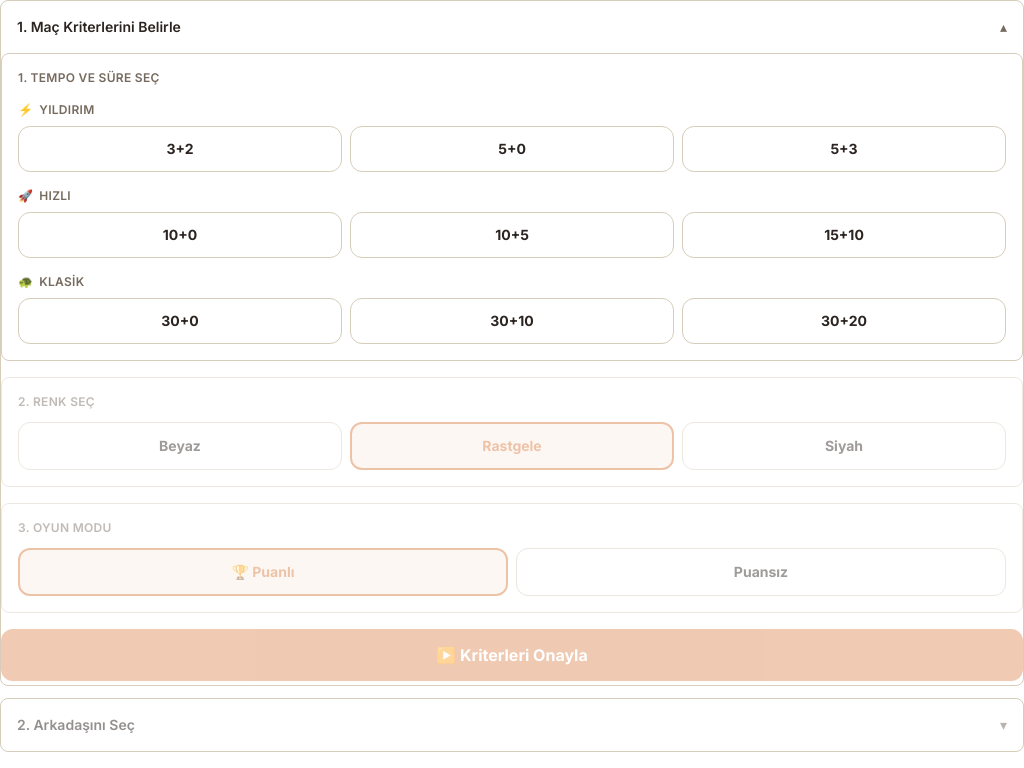
FriendChallenge › aktif isme tıklanıp Teklif Et ile davet gönderilir
The image size is (1024, 768).
What coordinates should you click on to do the following:
click the button "5+0"
I would click on:
 (512, 149)
Its box is [350,126,674,172].
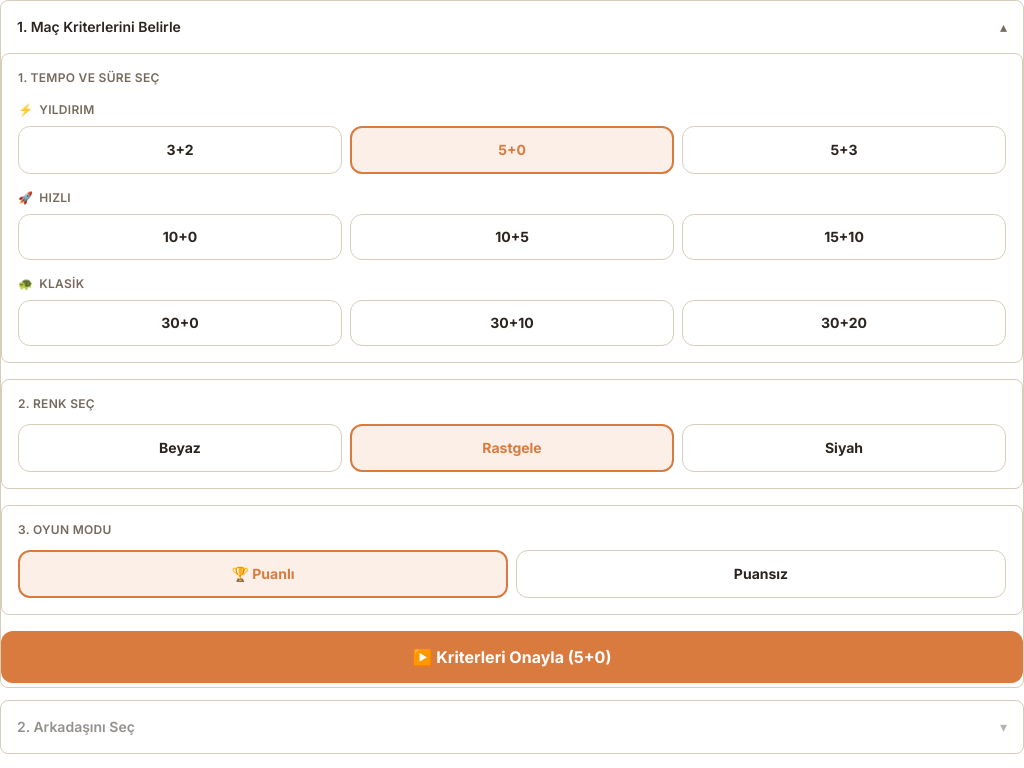
What coordinates should you click on to do the following:
click the button "▶️ Kriterleri Onayla (5+0)"
I would click on:
 (512, 657)
Its box is [1,631,1023,683].
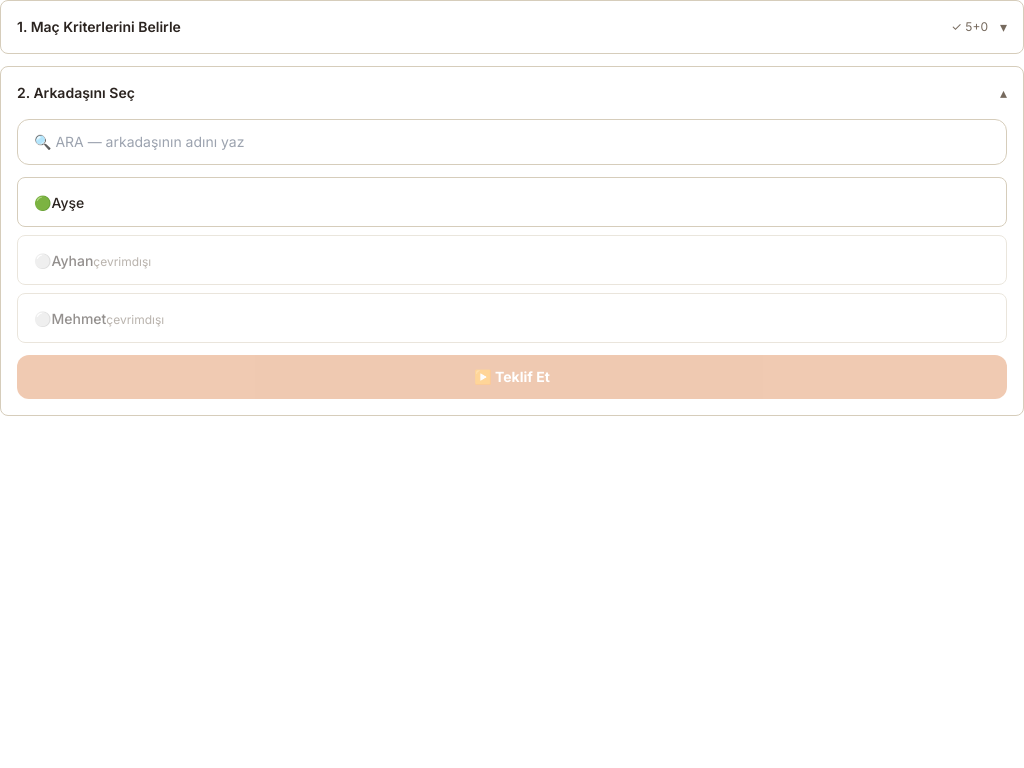
Result: the text "Ayşe" is shown at [52,194,84,211]
What coordinates should you click on to do the following:
click the button named "🟢 Ayşe"
I would click on:
 (68, 202)
Its box is [17,177,1007,227].
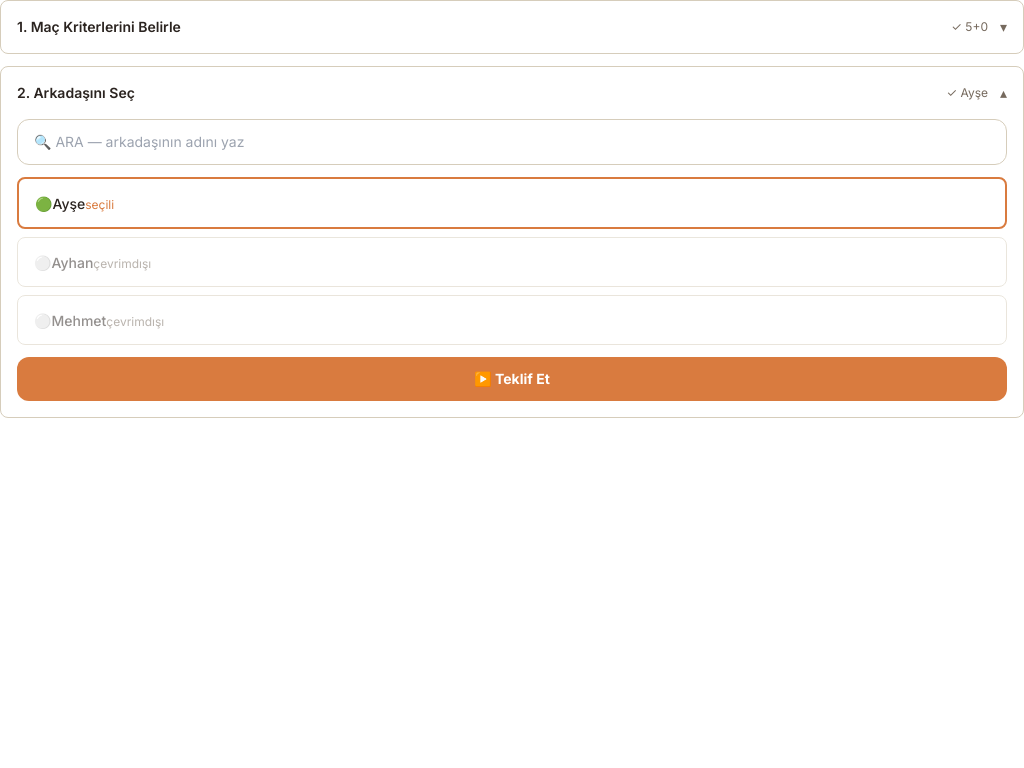
What coordinates should you click on to do the following:
click the button "▶️ Teklif Et"
I would click on:
 (512, 379)
Its box is [17,357,1007,401].
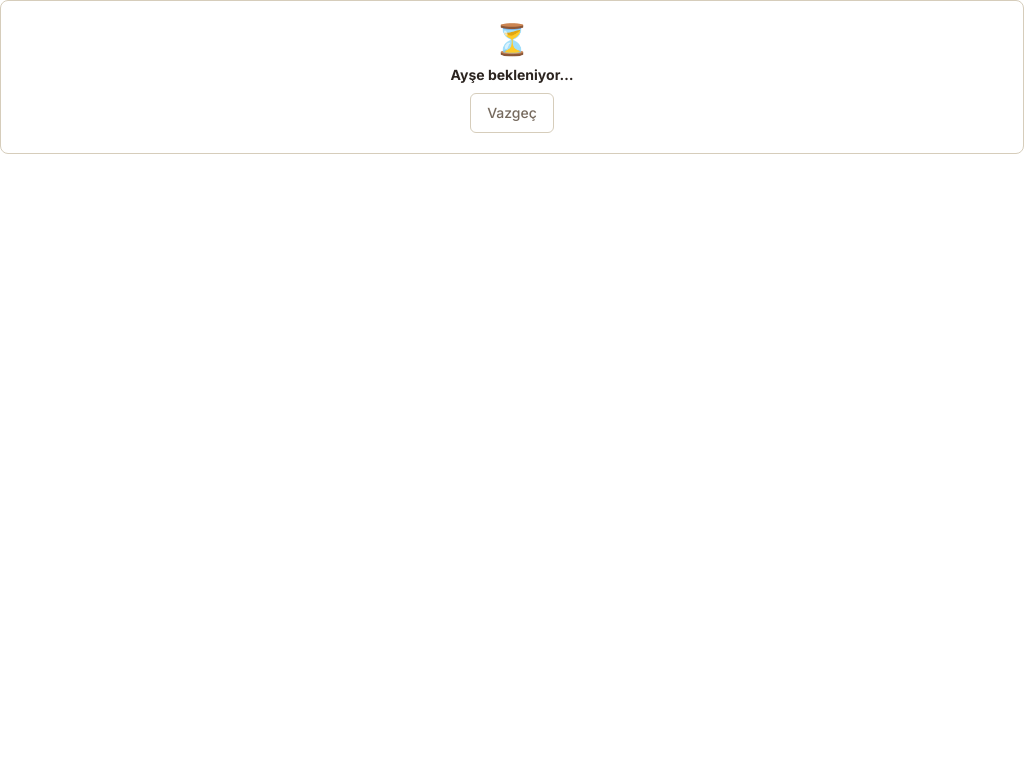
Result: the text "Ayşe bekleniyor…" is shown at [450,66,574,83]
